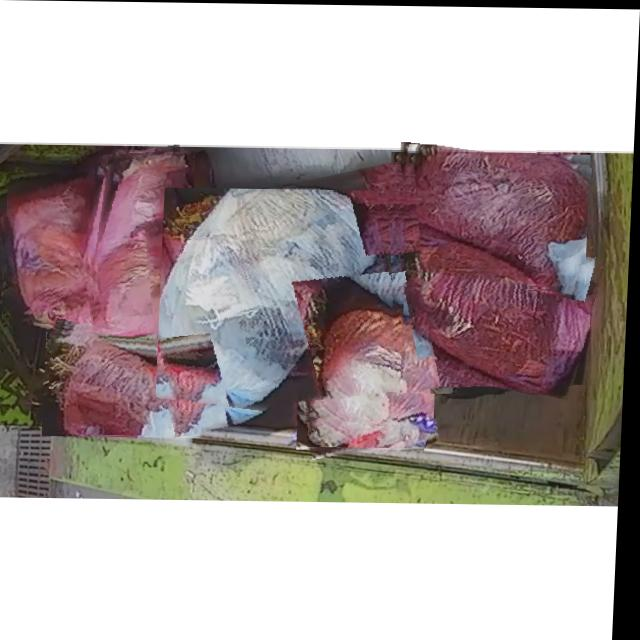other_trashbag: (161, 189, 394, 409), (407, 230, 595, 393), (399, 143, 590, 286), (94, 150, 194, 337), (312, 305, 438, 446), (54, 329, 205, 435), (8, 173, 98, 325)
